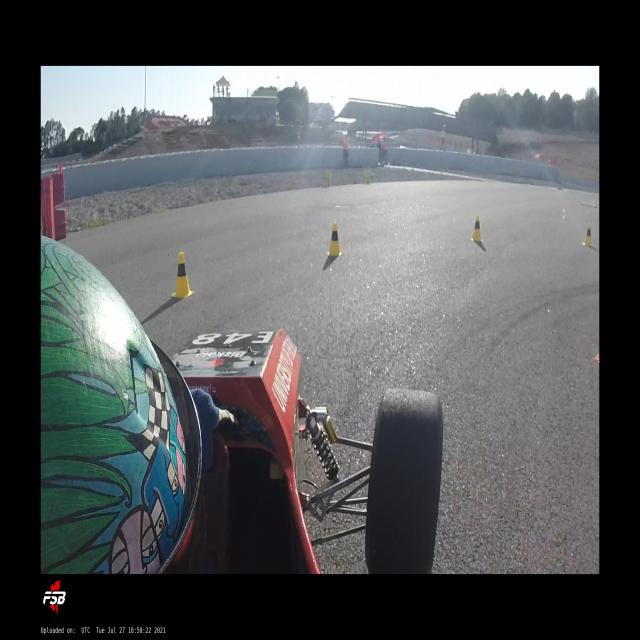yellow_cone: (171, 252, 195, 298), (326, 220, 343, 256), (471, 216, 483, 243), (581, 222, 593, 248)
